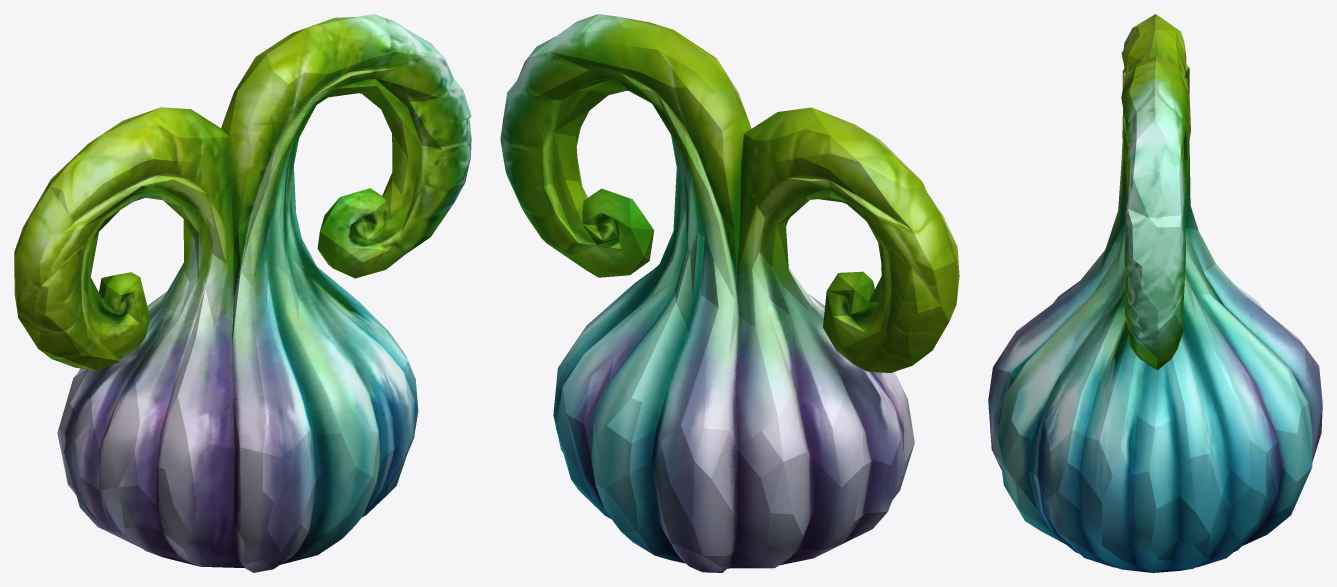
File: gourd.glb
The picture shows the model from 3 angles, left to right: view 1: azimuth 30°, elevation 25°; view 2: azimuth 150°, elevation 25°; view 3: azimuth 270°, elevation 25°; orthographic projection. The views are drawn at different scales.
Visible parts, largest first — view 1: model; view 2: model; view 3: model.
Boxes of the visible parts, x1,y1,x2,y2 form: model: [14, 14, 471, 572]; model: [500, 14, 959, 572]; model: [988, 14, 1322, 572].
Bounding box in the file's own units: 1.8 × 1.89 × 1.12.
1 material, 1 textured.
